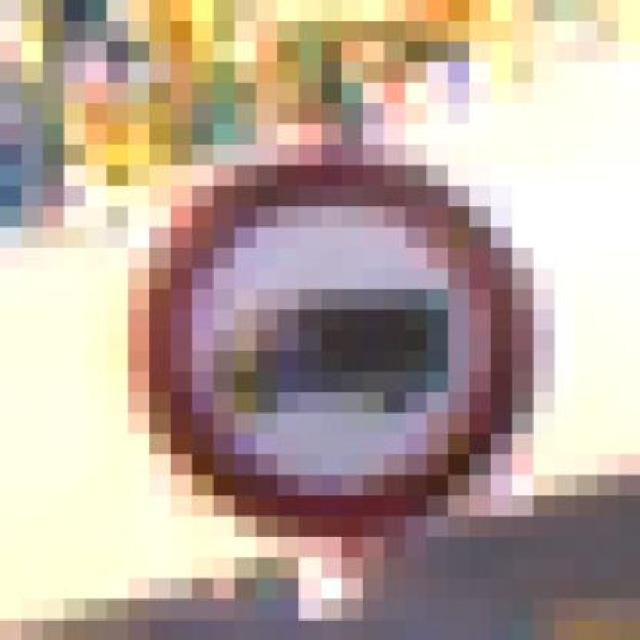Truck traffic is prohibited: (80, 149, 572, 542)
